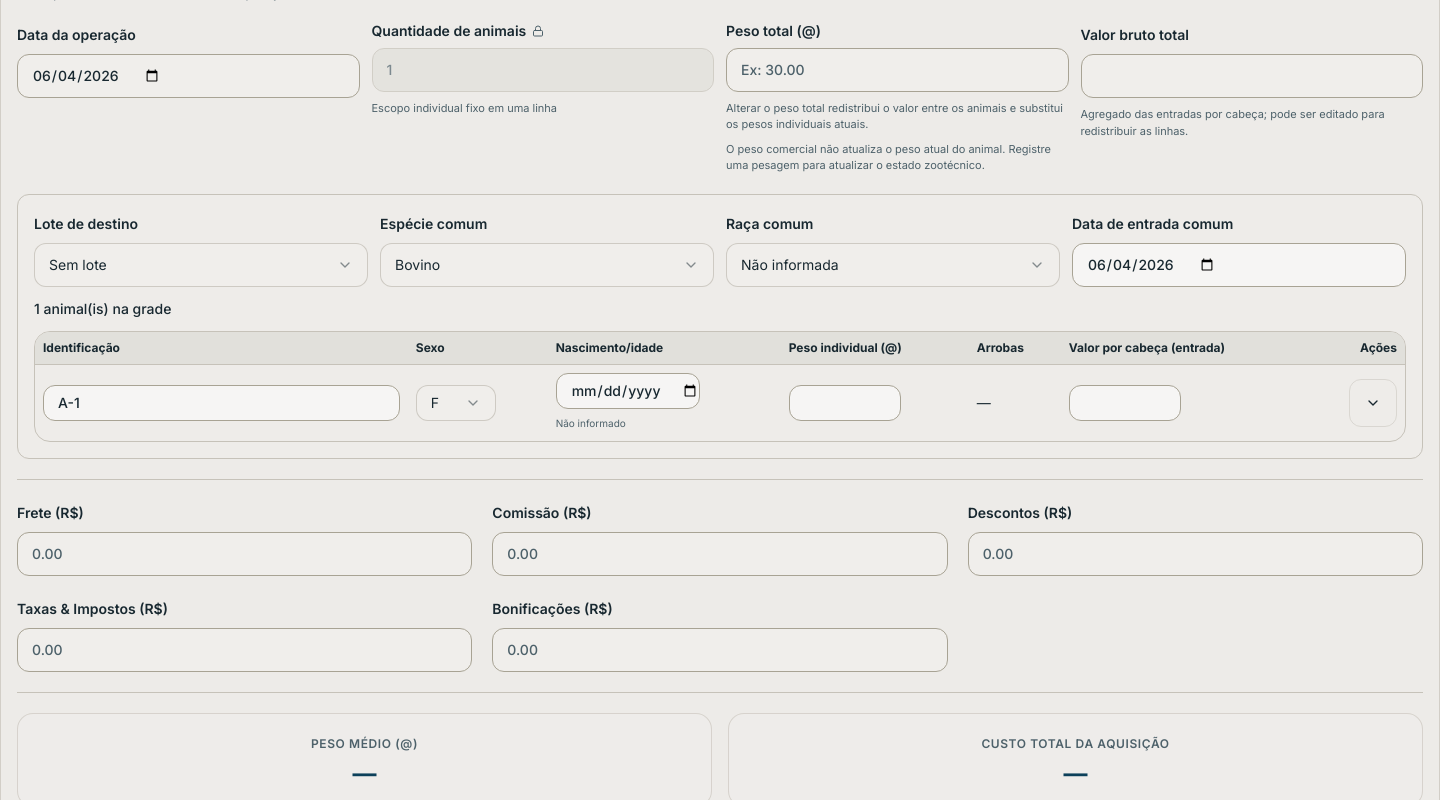
Test: RegistrarComercialSection › não infere categoria quando faltam os fatos cadastrais
(page scrolled)
Click the button named "Detalhes animal 1".
click(1373, 402)  # box [1349, 378, 1397, 426]
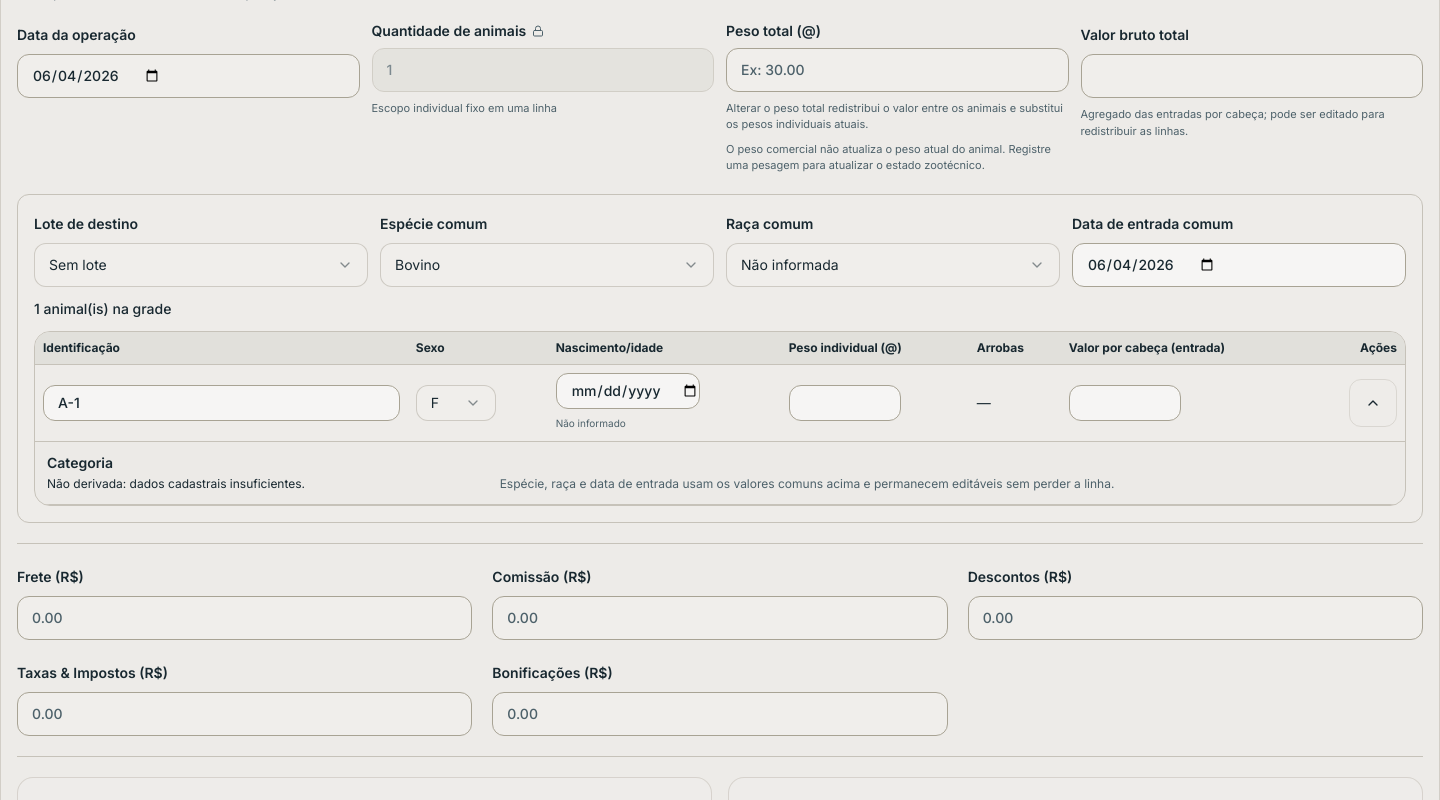
Now the text "Não derivada: dados cadastrais insuficientes." is shown, box [47, 476, 305, 490]
